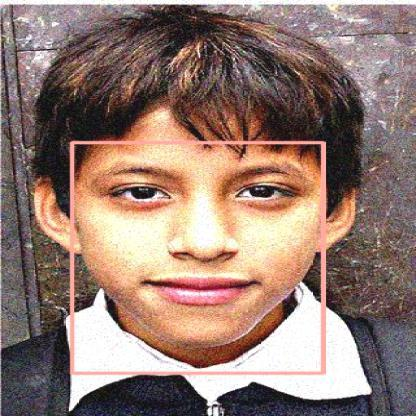without_mask: (72, 142, 323, 373)
